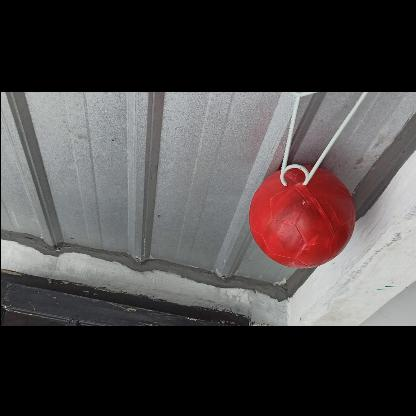red_ball: (248, 163, 354, 270)
